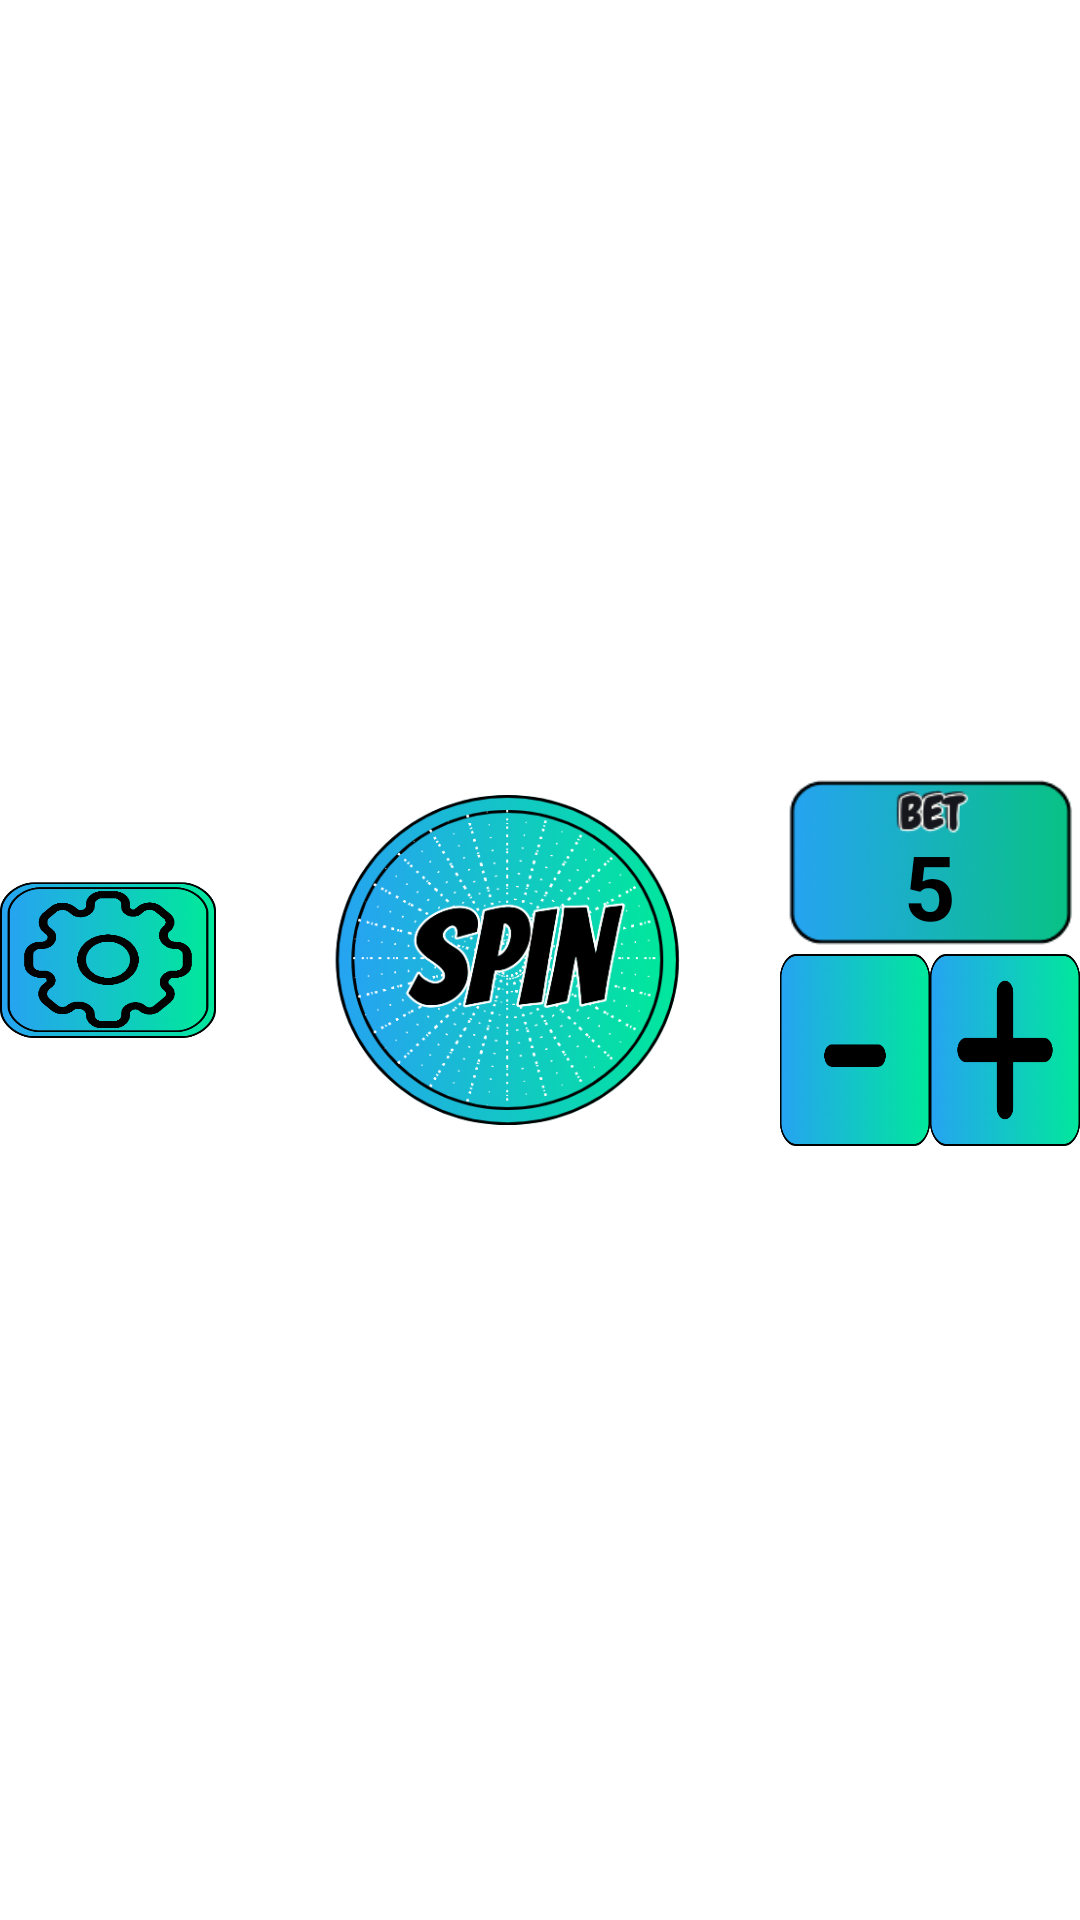

Screen size 1080px×1920px. Icon name, then its center in pixels as (x=x, y=y):
minus: (x=855, y=1050)
plus: (x=1005, y=1050)
settings: (x=108, y=960)
